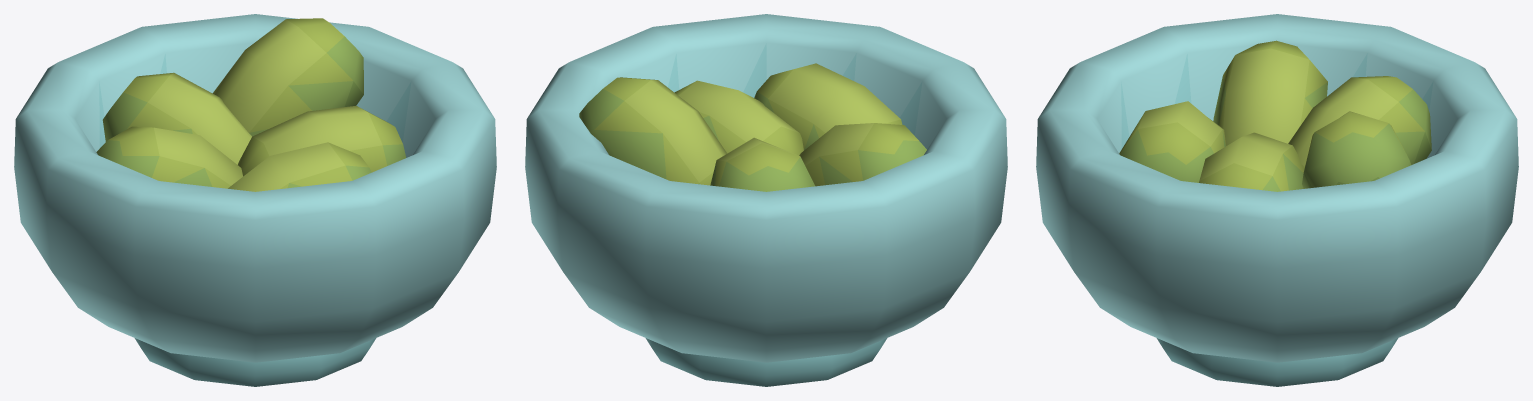
Rendered from itch_tiny_pleasant_picnic_grapes_bowl.glb.
The picture shows the model from 3 angles, left to right: view 1: azimuth 30°, elevation 25°; view 2: azimuth 150°, elevation 25°; view 3: azimuth 270°, elevation 25°; orthographic projection.
Visible parts, largest first — view 1: grapes_bowl; view 2: grapes_bowl; view 3: grapes_bowl.
Boxes of the visible parts, box(x1,y1,x2,y2) form: grapes_bowl: box(14, 14, 496, 386); grapes_bowl: box(525, 14, 1007, 386); grapes_bowl: box(1036, 14, 1518, 386).
Size of the model in its own units: 0.42 by 0.2517 by 0.42.
